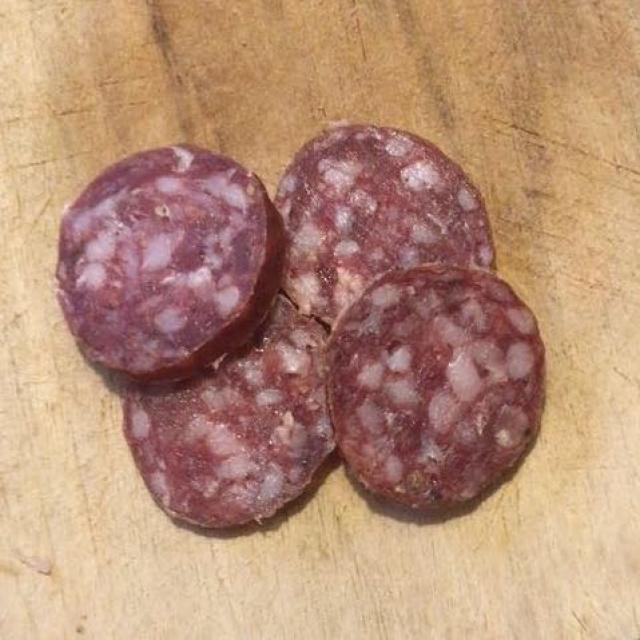salami: (63, 129, 527, 522)
